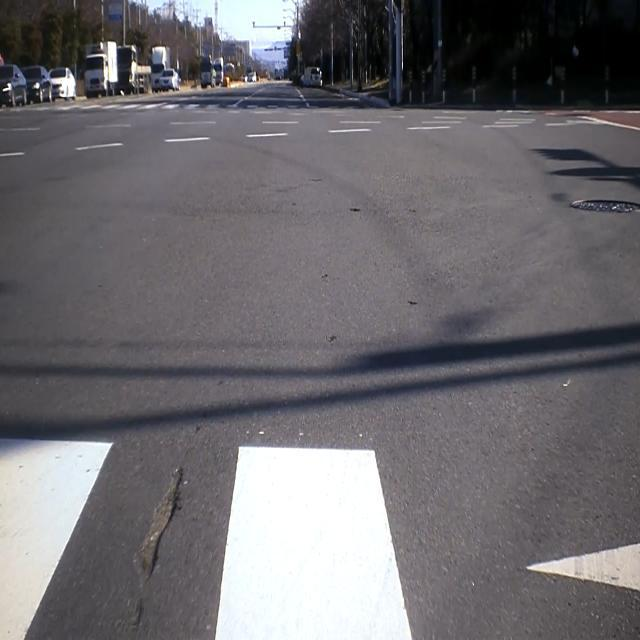Buraco: (128, 464, 188, 592)
